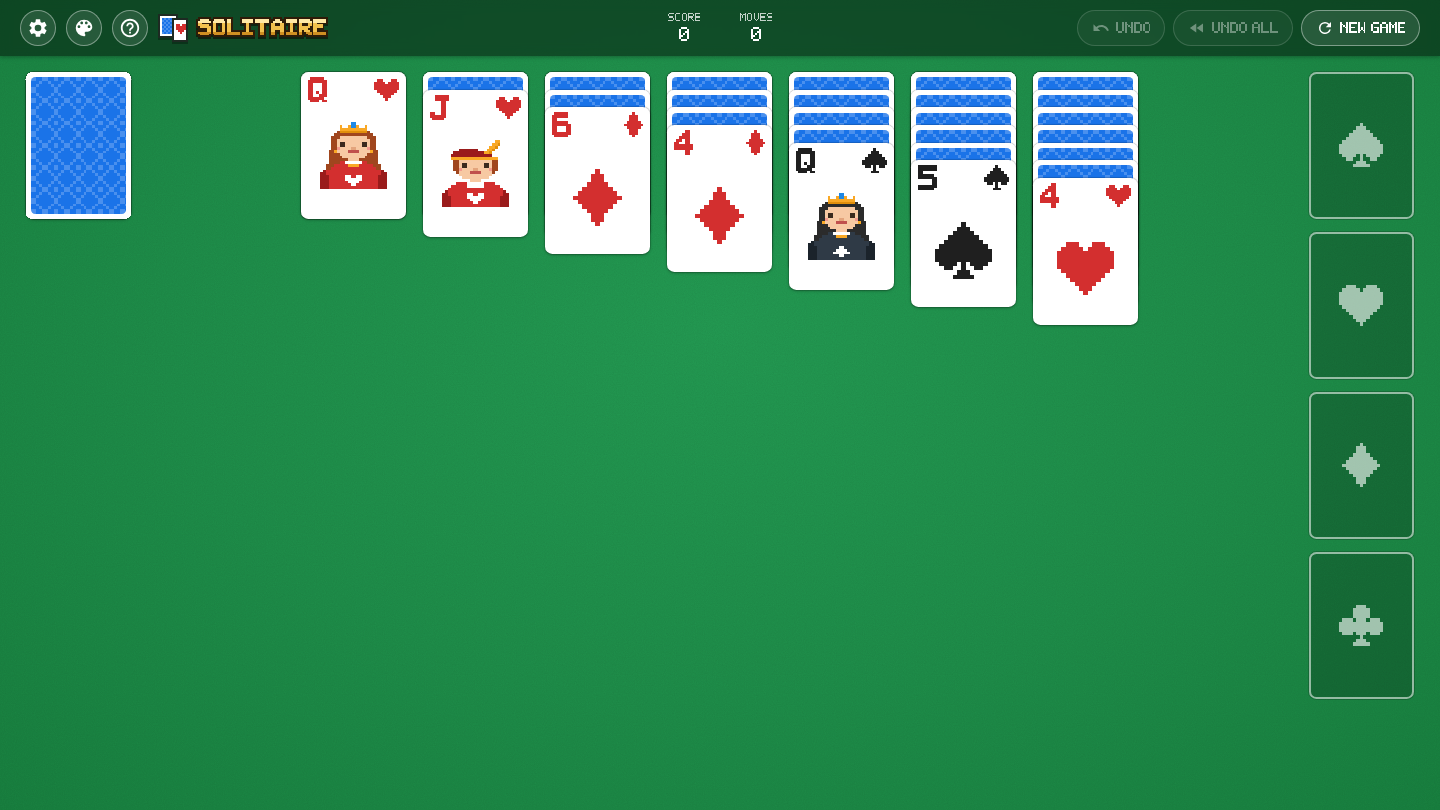
Test: settings menu › Escape closes the panel and returns focus to ☰
Click the button named "Settings" at [38, 28], box [20,10,56,46]
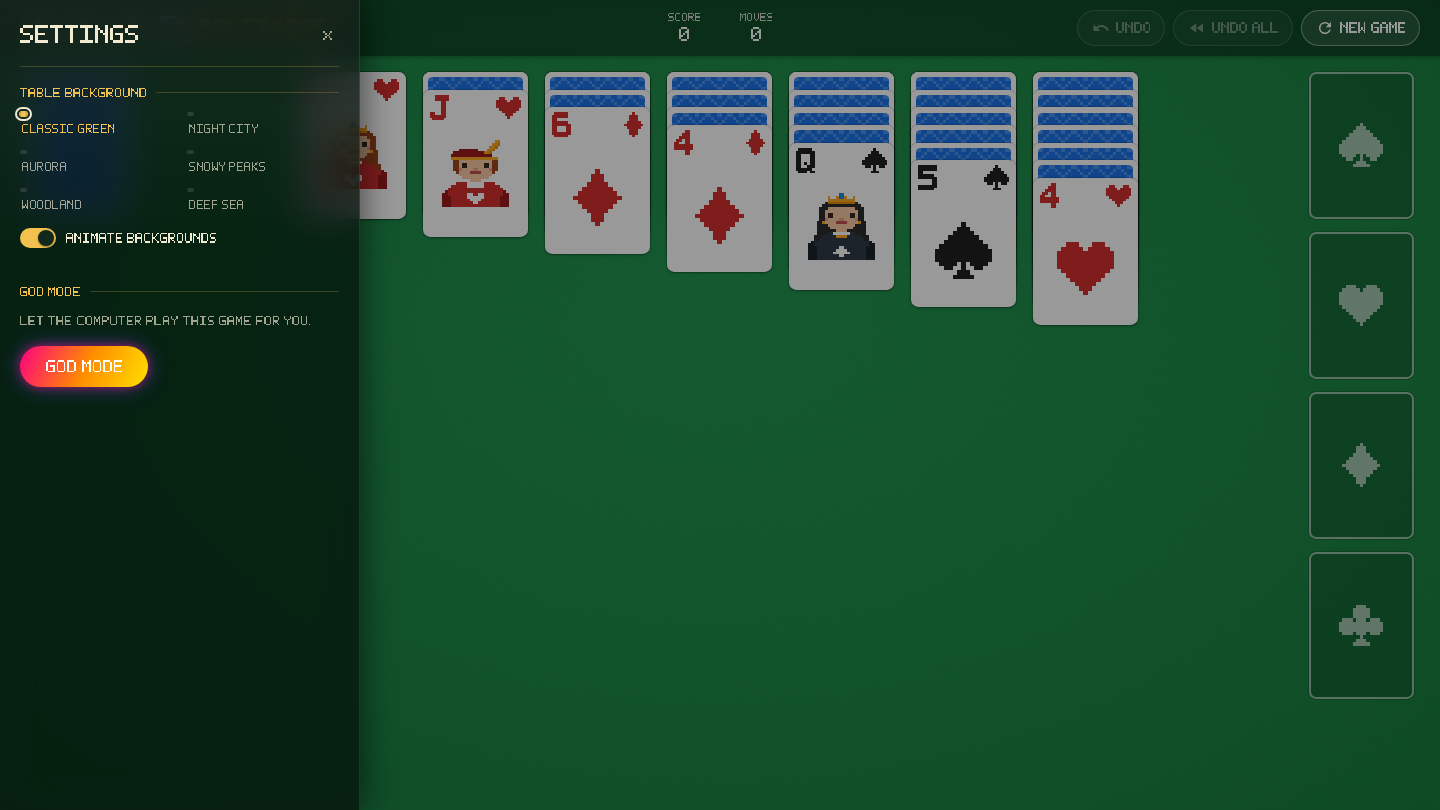
Press Escape
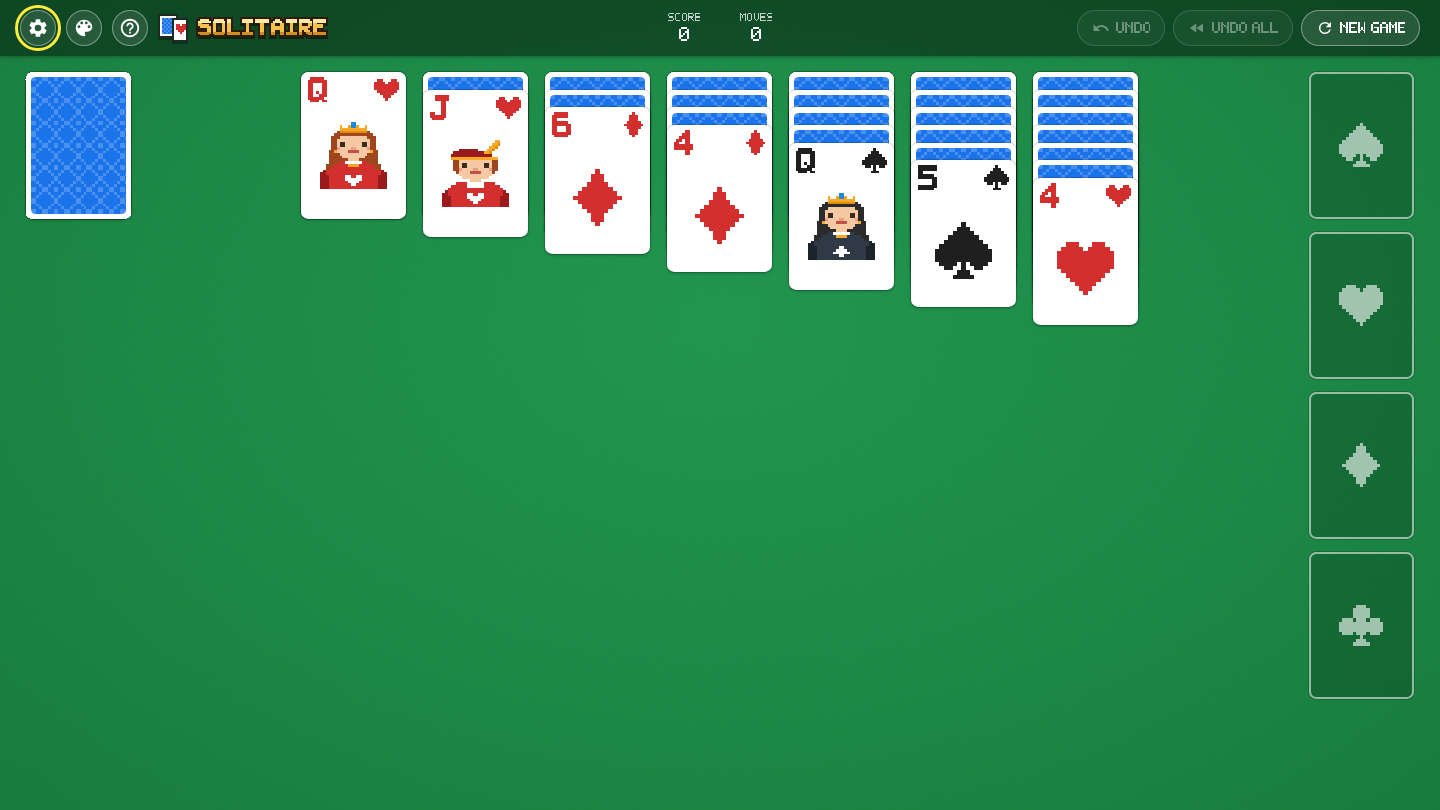
Expected: the dialog is gone
Expected: the button named "Settings" is collapsed, [20,10,56,46]
